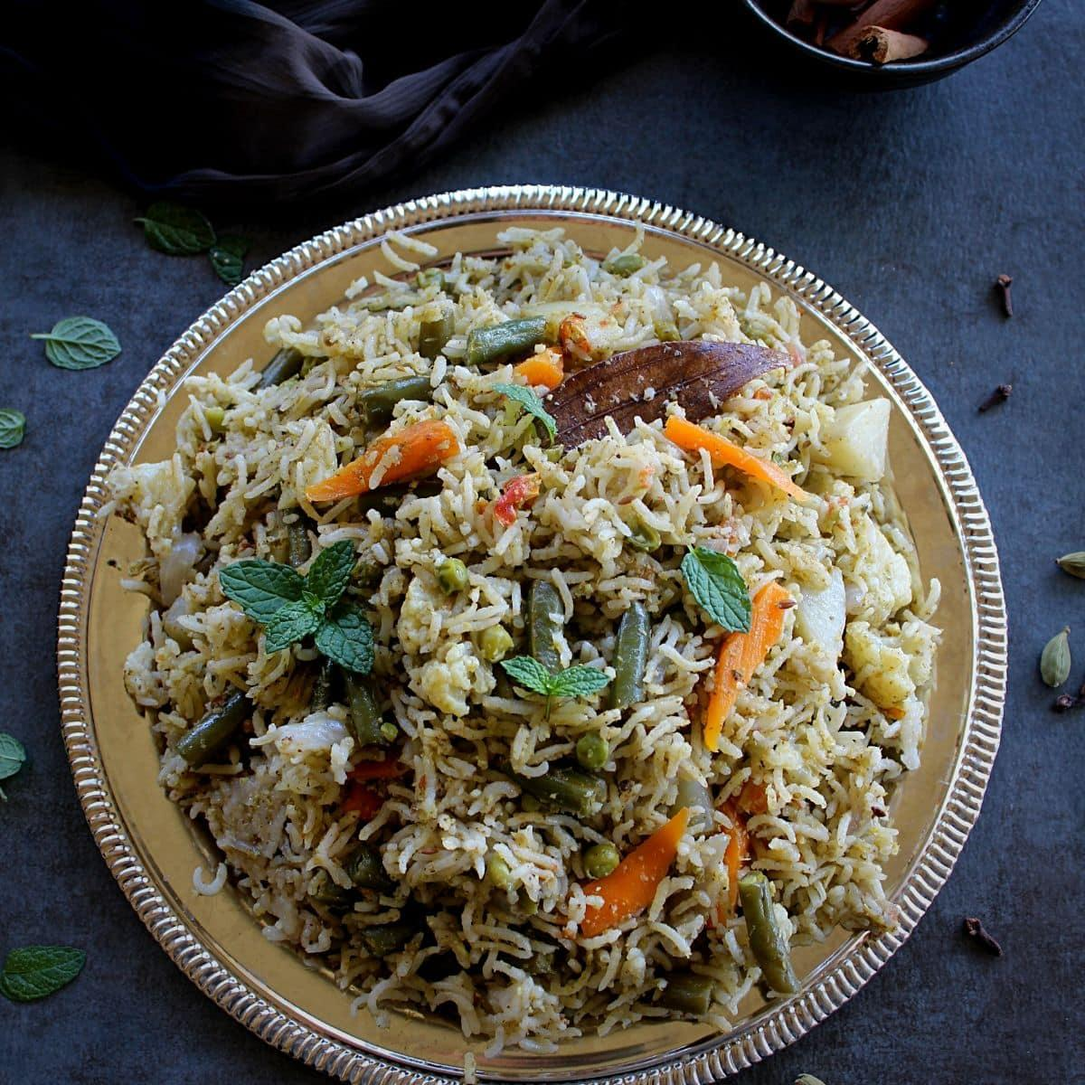veg-pulao: (158, 248, 911, 1005)
